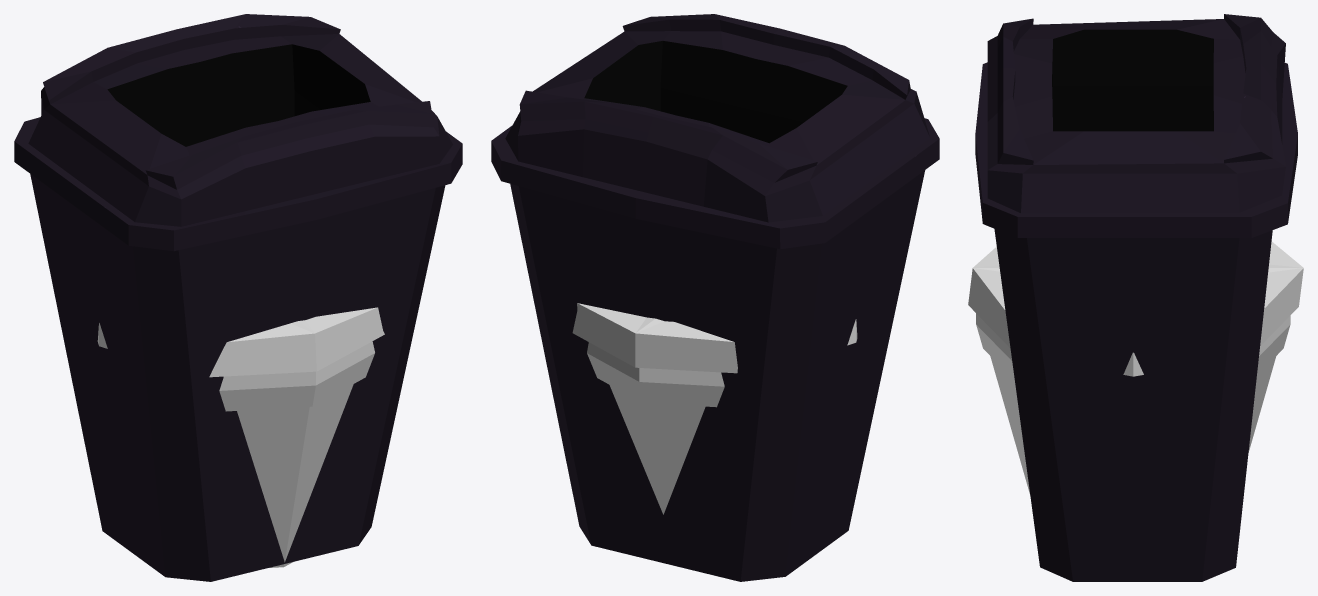
Rendered from model_trashcan_big.fbx.
3 views of the same model, side by side, from view 1: azimuth 30°, elevation 25°; view 2: azimuth 150°, elevation 25°; view 3: azimuth 270°, elevation 25° (orthographic). The views are drawn at different scales.
Parts seen in each view (by area): view 1: SM_TrashCan_Dorm, SM_TrashCan, SM_TrashCan_Lid; view 2: SM_TrashCan_Dorm, SM_TrashCan, SM_TrashCan_Lid; view 3: SM_TrashCan_Dorm, SM_TrashCan_Lid, SM_TrashCan.
Boxes of the visible parts, x1,y1,x2,y2 form: SM_TrashCan_Dorm: (14,14,462,581); SM_TrashCan: (219,341,374,567); SM_TrashCan_Lid: (97,307,384,377); SM_TrashCan_Dorm: (491,14,939,581); SM_TrashCan: (587,342,724,514); SM_TrashCan_Lid: (572,303,857,373); SM_TrashCan_Dorm: (975,14,1297,581); SM_TrashCan_Lid: (968,241,1303,376); SM_TrashCan: (976,313,1290,494).
Size of the model in its own units: 3.56 by 3.02 by 4.68.
